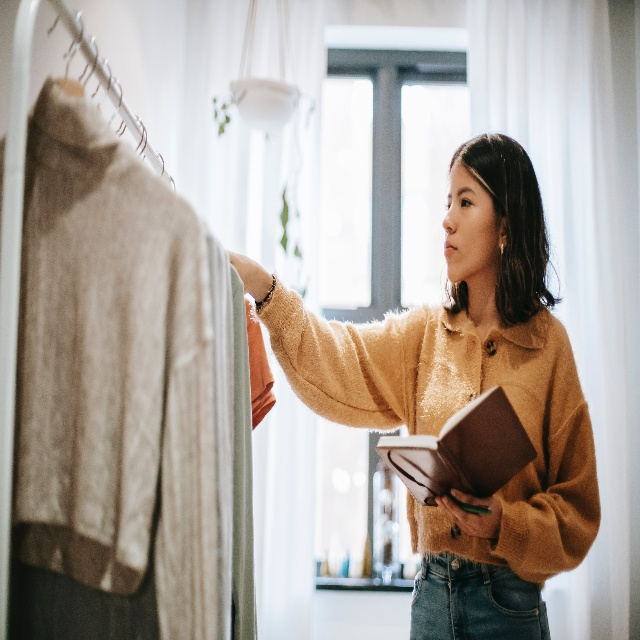Sin_guantes: (433, 489, 501, 539), (225, 247, 270, 300)
